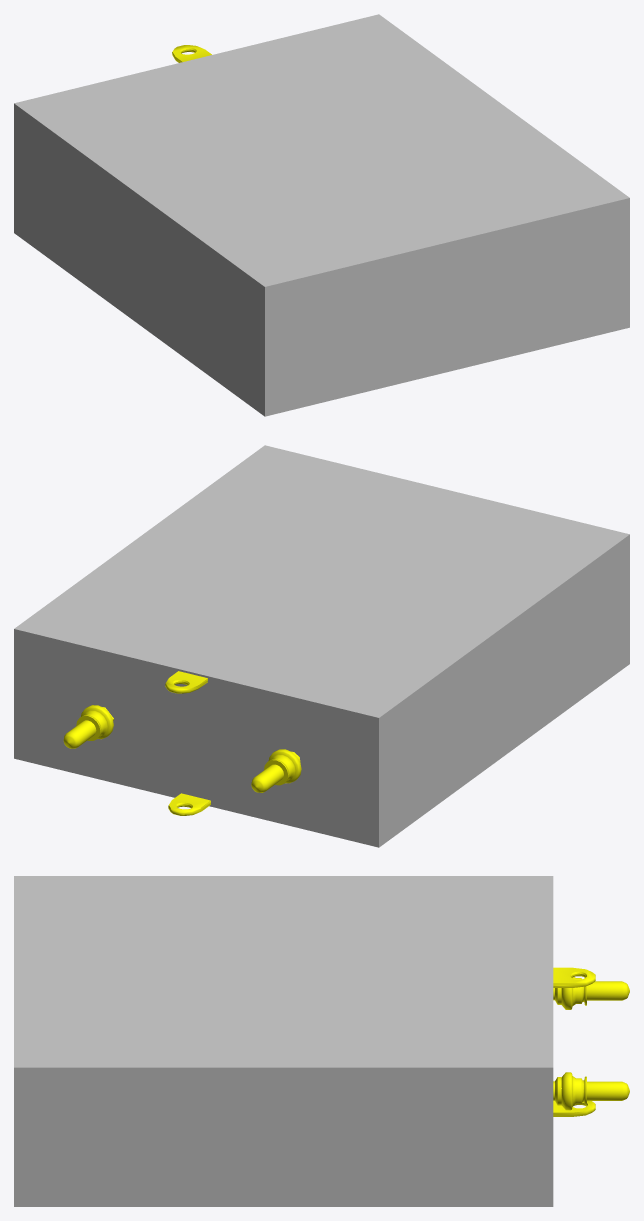
Rendered from sm_hana_epms_busduct_temp_sensor.glb.
3 views of the same model, one above another, from view 1: azimuth 30°, elevation 25°; view 2: azimuth 150°, elevation 25°; view 3: azimuth 270°, elevation 25° (orthographic). The views are drawn at different scales.
Visible parts, largest first — view 1: sm_color_common; view 2: sm_color_common, sm_hana_epms_busduct_temp_sensor; view 3: sm_color_common, sm_hana_epms_busduct_temp_sensor.
Part boxes in pixels (bbox=[...]): sm_color_common: bbox=[14, 14, 629, 416]; sm_color_common: bbox=[14, 445, 629, 847]; sm_hana_epms_busduct_temp_sensor: bbox=[63, 671, 301, 815]; sm_color_common: bbox=[14, 876, 553, 1206]; sm_hana_epms_busduct_temp_sensor: bbox=[553, 967, 629, 1116].
Bounding box in the file's own units: 0.2576 × 0.0875 × 0.3503.
Materials: 2 (1 with a texture image).
